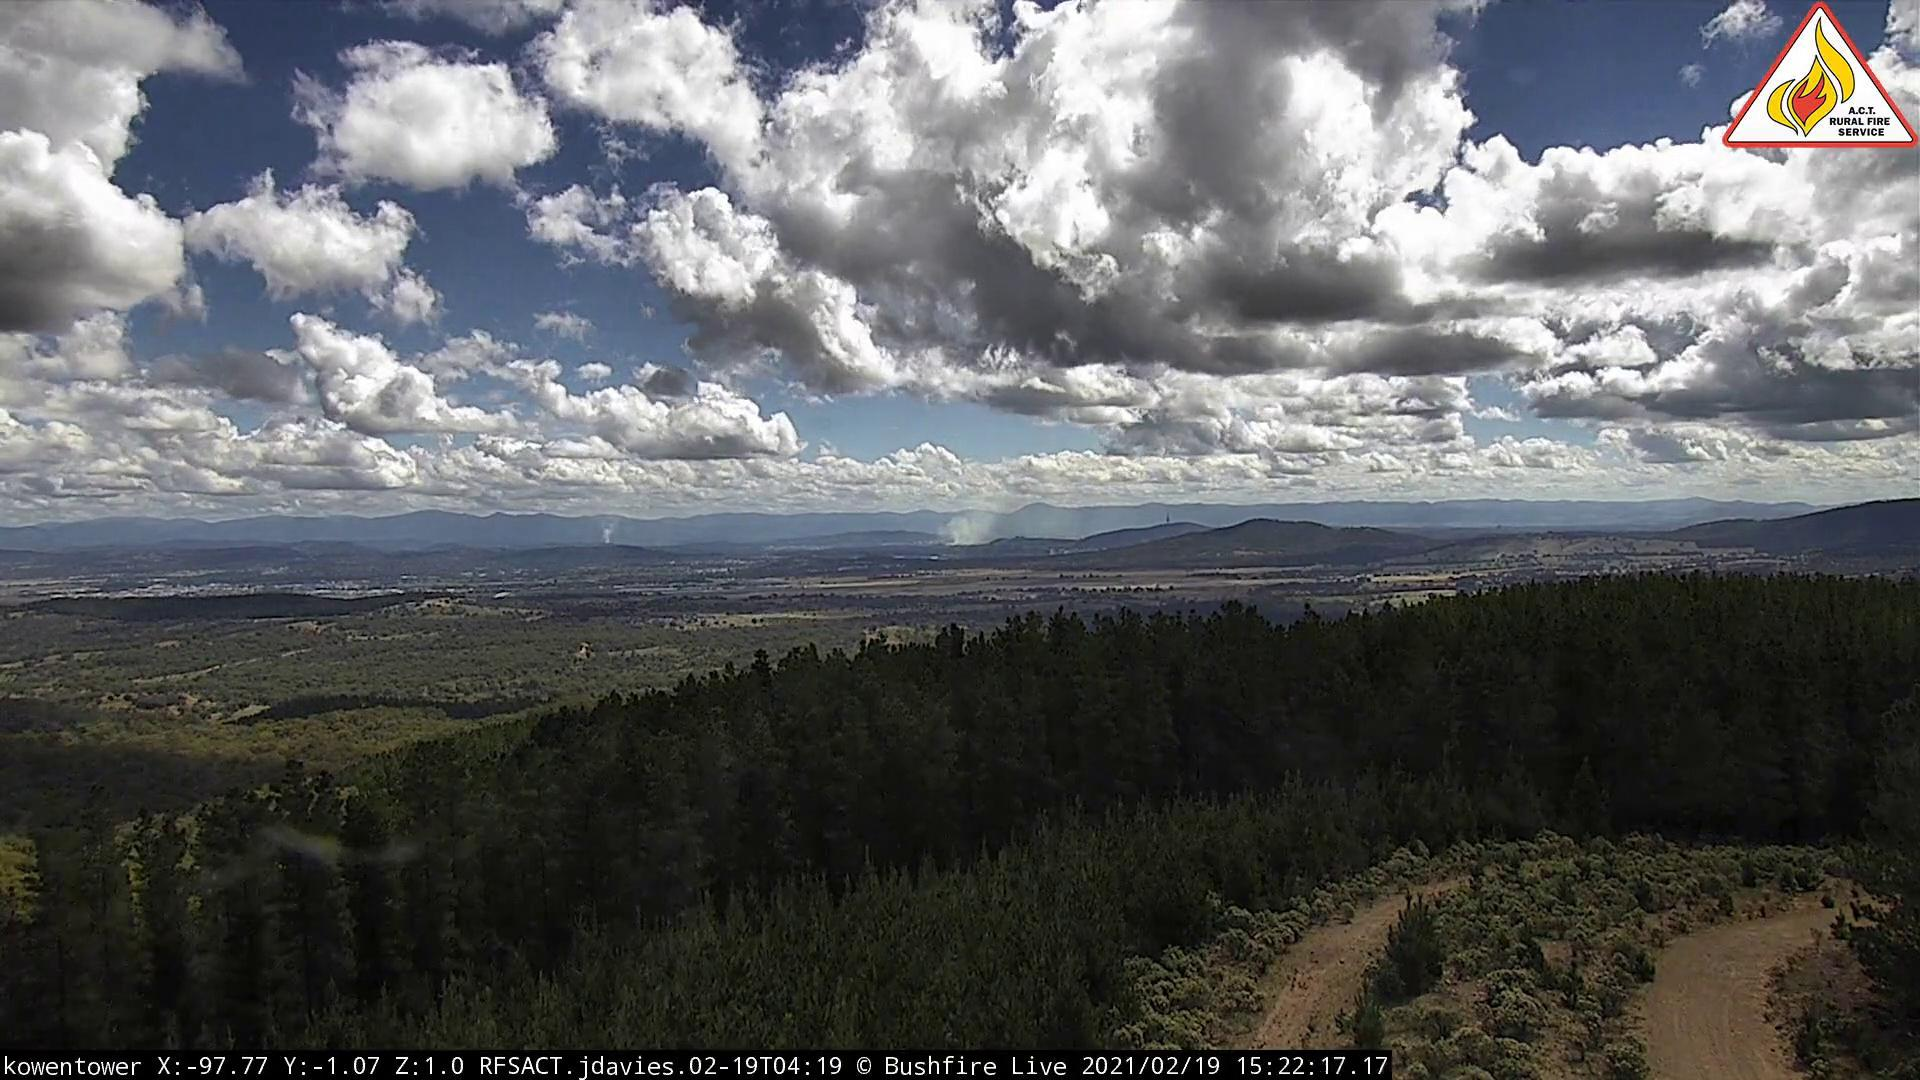instance_salient_object: (936, 495, 1034, 556), (597, 520, 625, 553)
